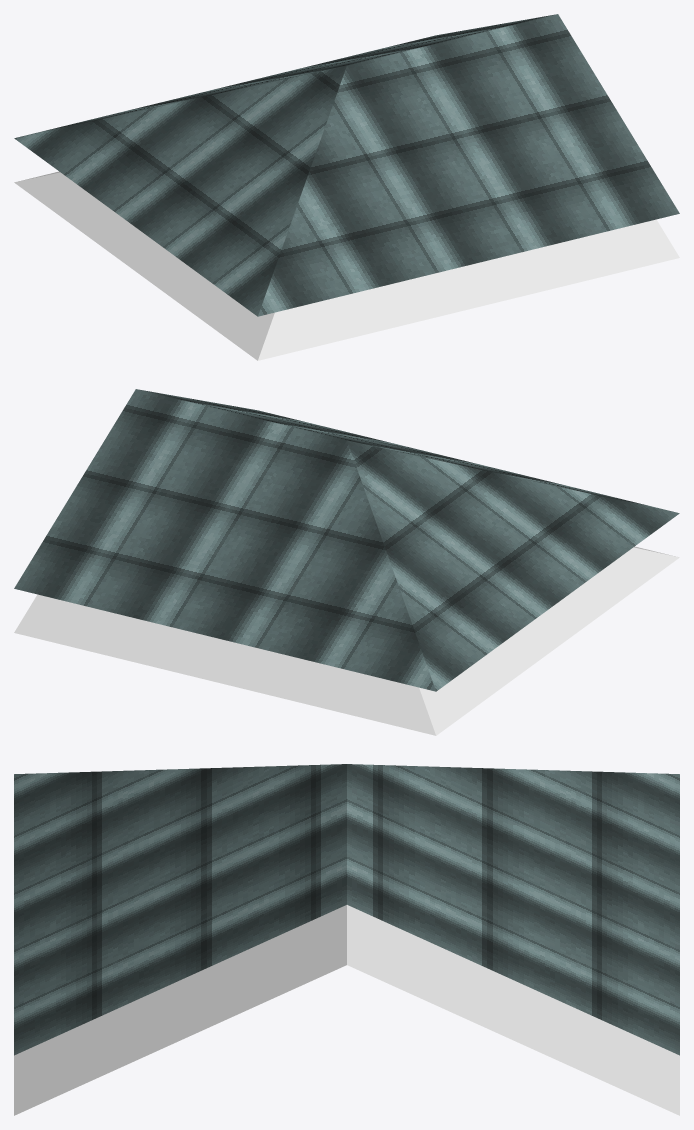
Rendered from roof_top_corner_2x1.glb.
3 renders of one model, top to bottom at view 1: azimuth 30°, elevation 25°; view 2: azimuth 150°, elevation 25°; view 3: azimuth 270°, elevation 25°, orthographic. The views are drawn at different scales.
Parts seen in each view (by area): view 1: roof_top_corner_2x1; view 2: roof_top_corner_2x1; view 3: roof_top_corner_2x1.
Boxes of the visible parts, x1,y1,x2,y2 form: roof_top_corner_2x1: (14, 14, 679, 360); roof_top_corner_2x1: (14, 389, 679, 735); roof_top_corner_2x1: (14, 764, 679, 1115).
Size of the model in its own units: 2 by 0.7 by 2.
Materials: 2 (1 with a texture image).
